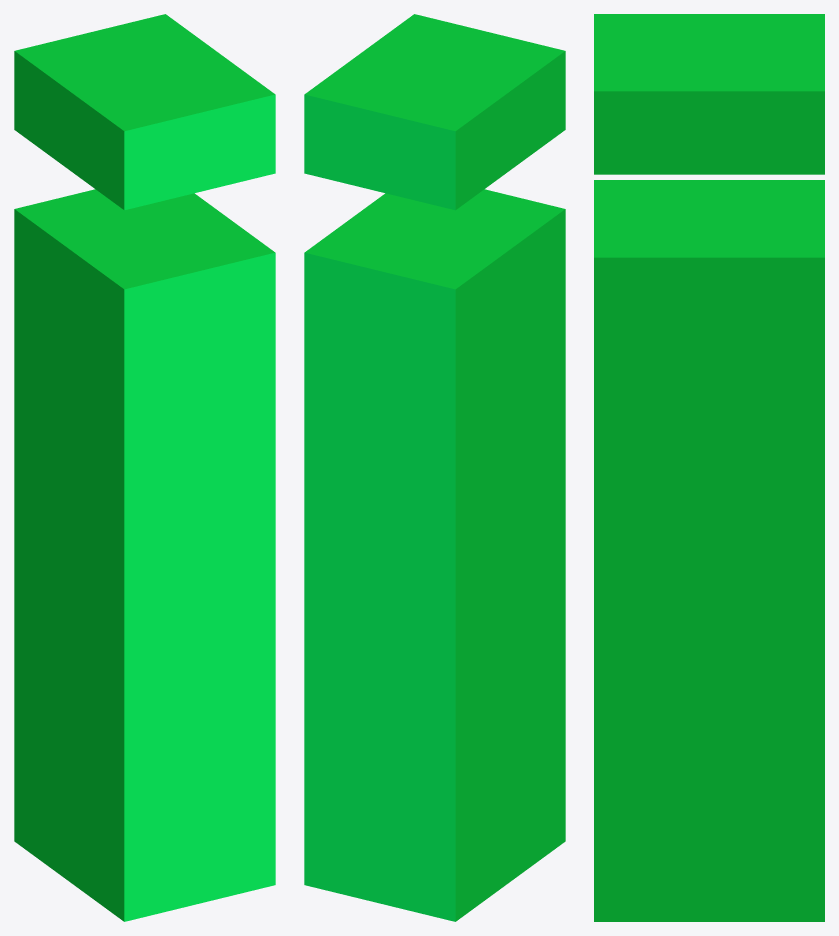
File: I_DeltaBlock_Green.glb
3 views of the same model, side by side, from view 1: azimuth 30°, elevation 25°; view 2: azimuth 150°, elevation 25°; view 3: azimuth 270°, elevation 25° (orthographic). The views are drawn at different scales.
Parts seen in each view (by area): view 1: i_DeltaBlock_Green; view 2: i_DeltaBlock_Green; view 3: i_DeltaBlock_Green.
Part boxes in pixels (bbox=[...]): i_DeltaBlock_Green: bbox=[14, 14, 275, 921]; i_DeltaBlock_Green: bbox=[304, 14, 565, 921]; i_DeltaBlock_Green: bbox=[594, 14, 824, 921].
Size of what is drawn, in the model's own units: 0.0357 by 0.1786 by 0.045.
Materials: 2 (2 with a texture image).
